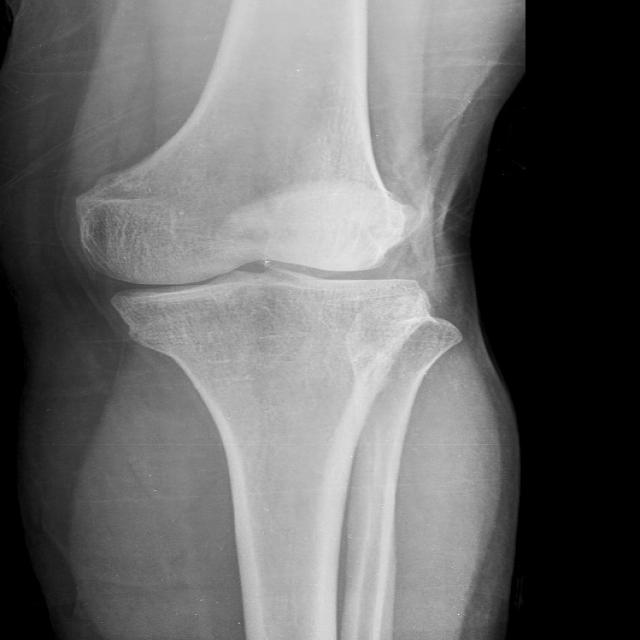normal: (66, 181, 432, 330)
